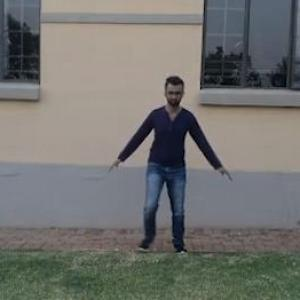land: (103, 75, 243, 260)
